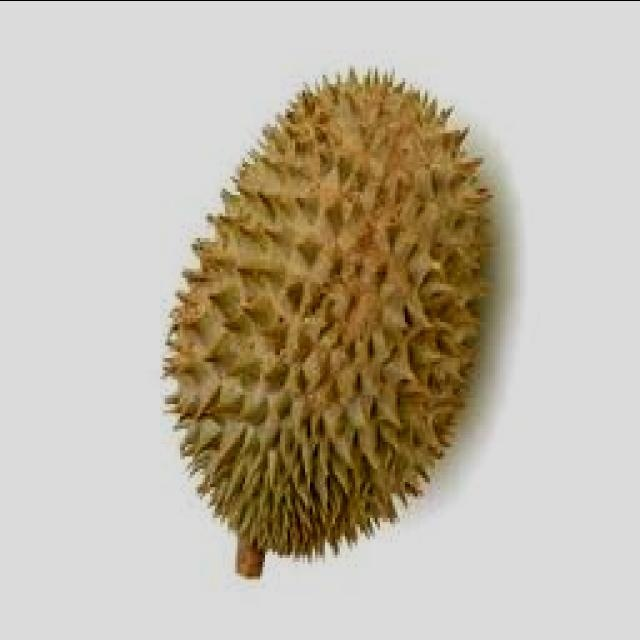agrume: (130, 65, 508, 575)
